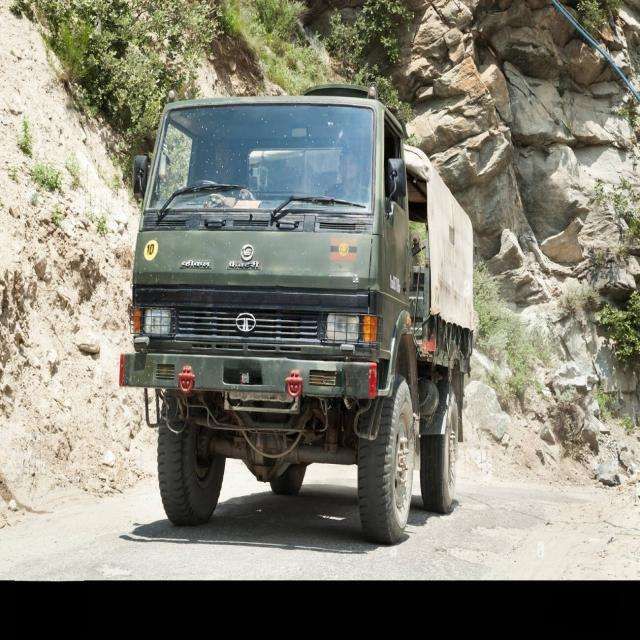truck: (120, 85, 474, 543)
